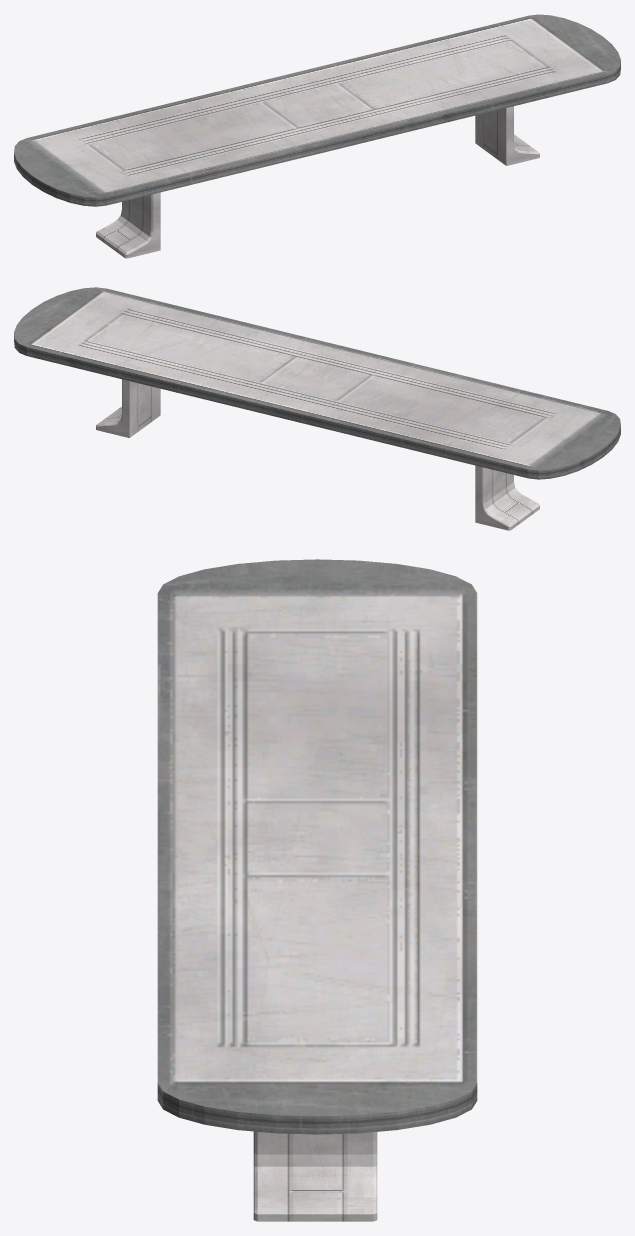
File: frn_all_mdrn_dining_table_s01_l0.fbx
3 renders of one model, top to bottom at view 1: azimuth 30°, elevation 25°; view 2: azimuth 150°, elevation 25°; view 3: azimuth 270°, elevation 25°, orthographic. The views are drawn at different scales.
Visible parts, largest first — view 1: mesh_node; view 2: mesh_node; view 3: mesh_node.
Boxes of the visible parts, x1=… form: mesh_node: x1=14, y1=14, x2=620, y2=258; mesh_node: x1=14, y1=287, x2=620, y2=530; mesh_node: x1=157, y1=559, x2=477, y2=1221.
Size of the model in its own units: 6.6 by 1 by 1.6.
Materials: 1 (1 with a texture image).
